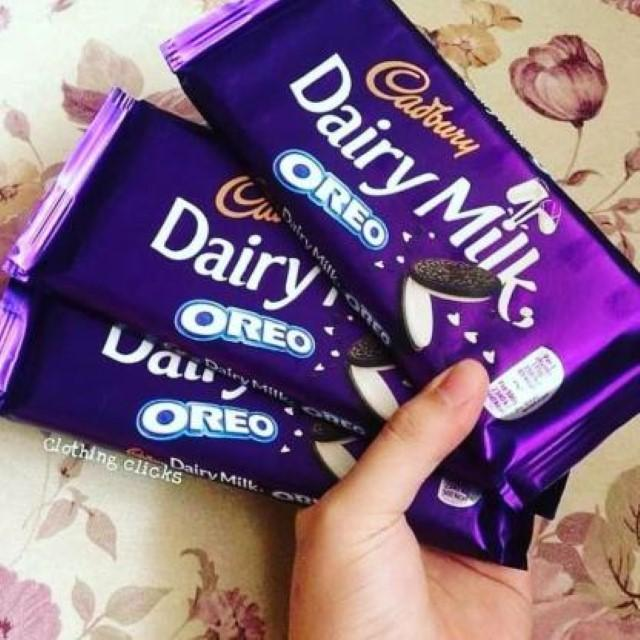cadbury_chocolate: (20, 87, 608, 500), (175, 0, 640, 473), (3, 292, 542, 573)
